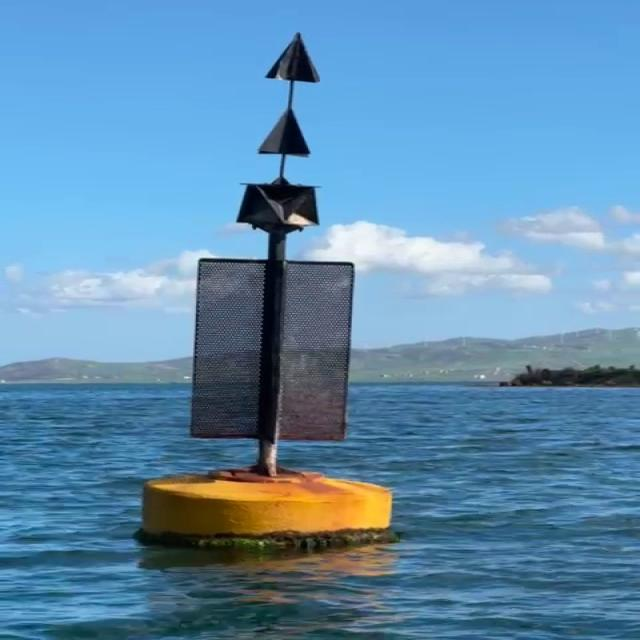marque: (135, 31, 398, 550)
